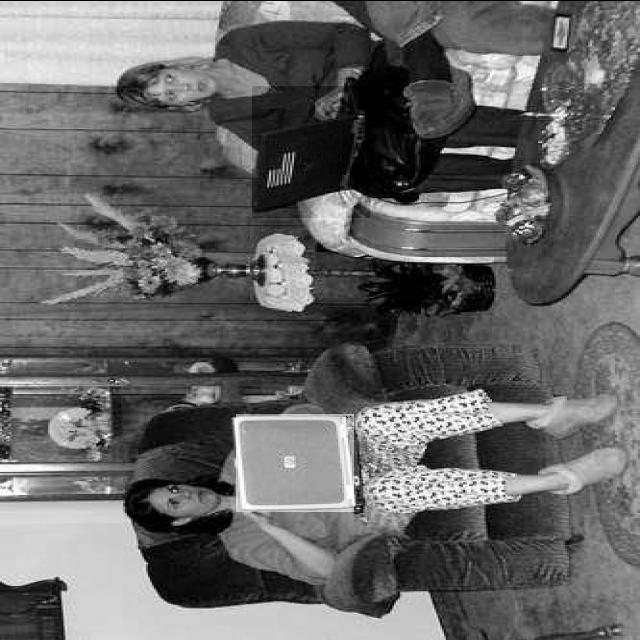-keyboard-: (252, 86, 370, 218), (236, 414, 354, 512)
